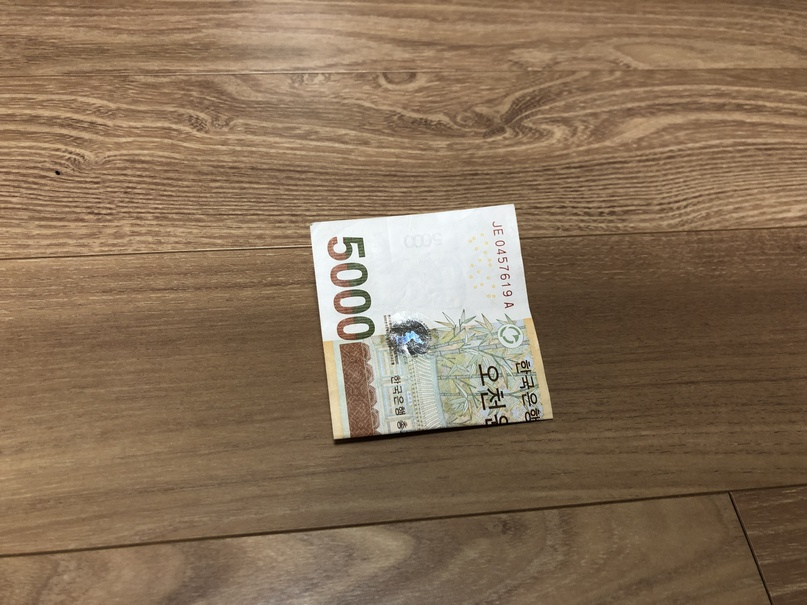5000won: (310, 205, 553, 440)
